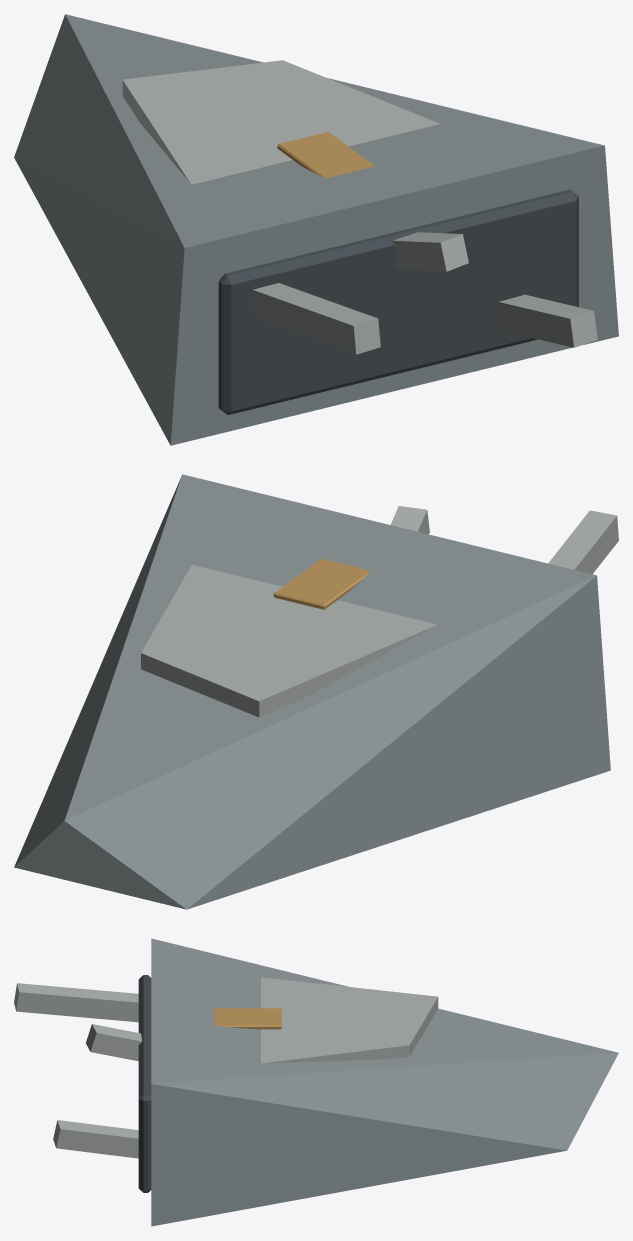
Rendered from severed_prow.glb.
The picture shows the model from 3 angles, top to bottom: view 1: azimuth 30°, elevation 25°; view 2: azimuth 150°, elevation 25°; view 3: azimuth 270°, elevation 25°; orthographic projection. The views are drawn at different scales.
Parts seen in each view (by area): view 1: severed_prow; view 2: severed_prow; view 3: severed_prow.
Boxes of the visible parts, x1,y1,x2,y2 form: severed_prow: (14,14,618,445); severed_prow: (14,474,618,909); severed_prow: (14,938,618,1226).
Bounding box in the file's own units: 1.28 × 0.53 × 2.11.
